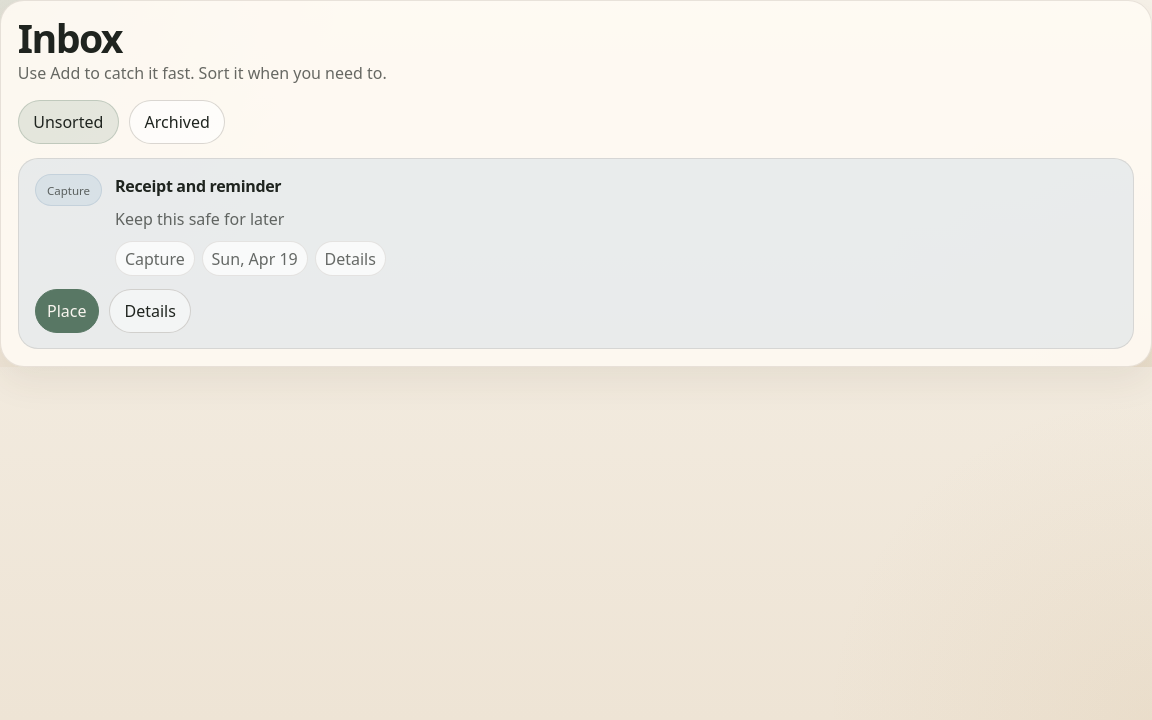
Test: InboxView › opens list targeting from the placement sheet without converting early
What coordinates should you click on to do the following:
click the button "Place"
I would click on:
 (67, 311)
Its box is [35,289,99,333].
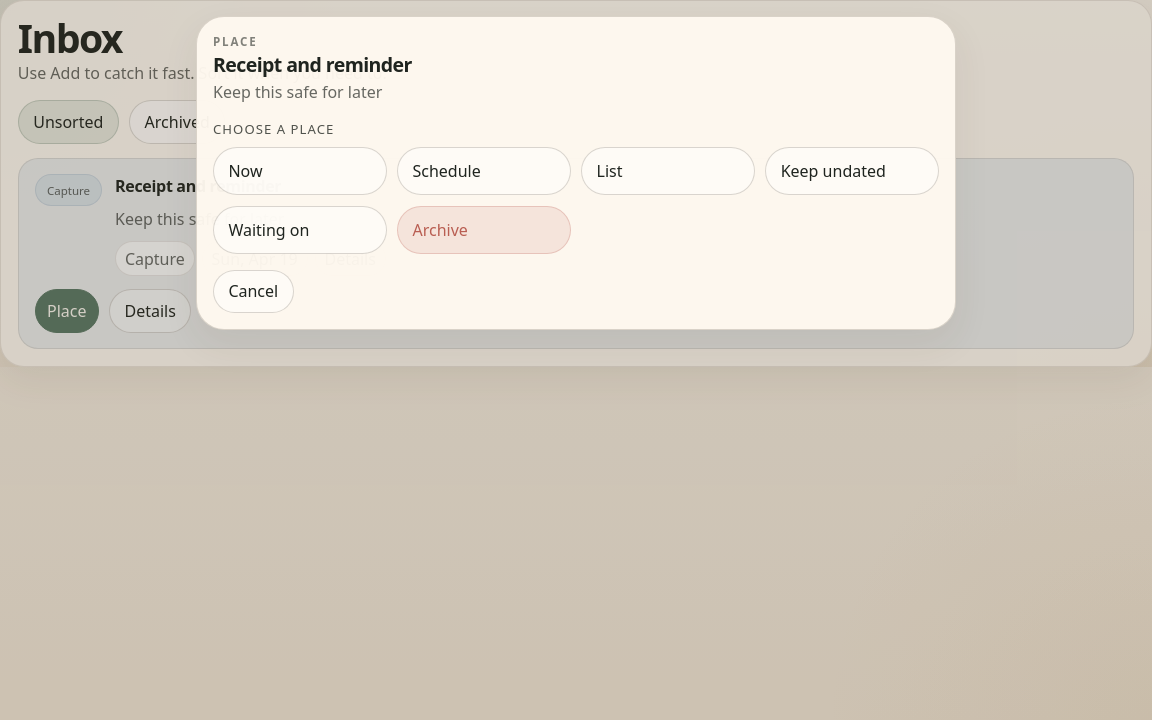
What coordinates should you click on to do the following:
click the button "List"
I would click on:
 (668, 171)
Its box is [581,147,755,195].
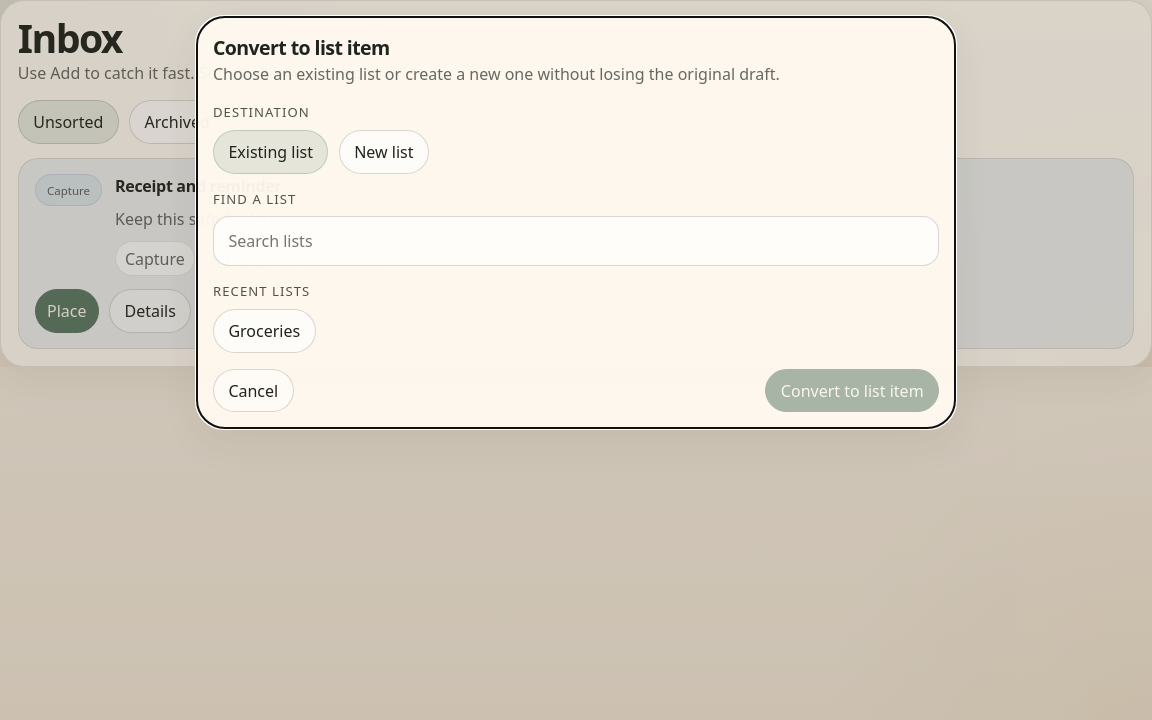
Expected: the dialog "Convert to list item" is shown
